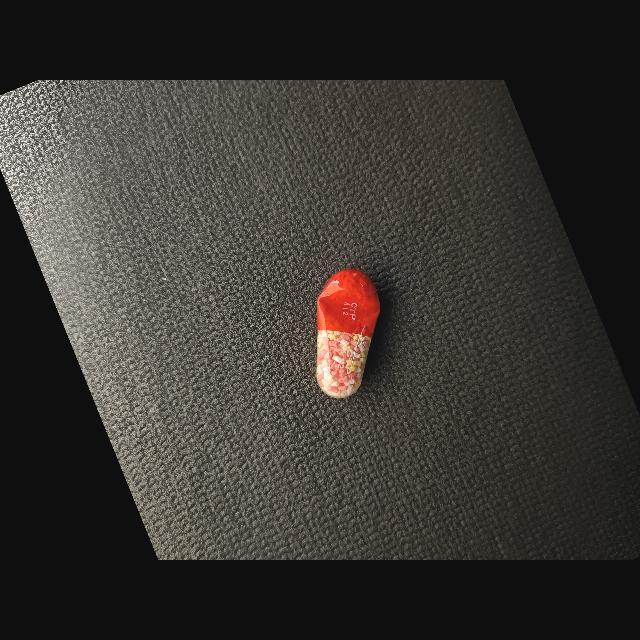Defective Capsule: (316, 269, 380, 399)
